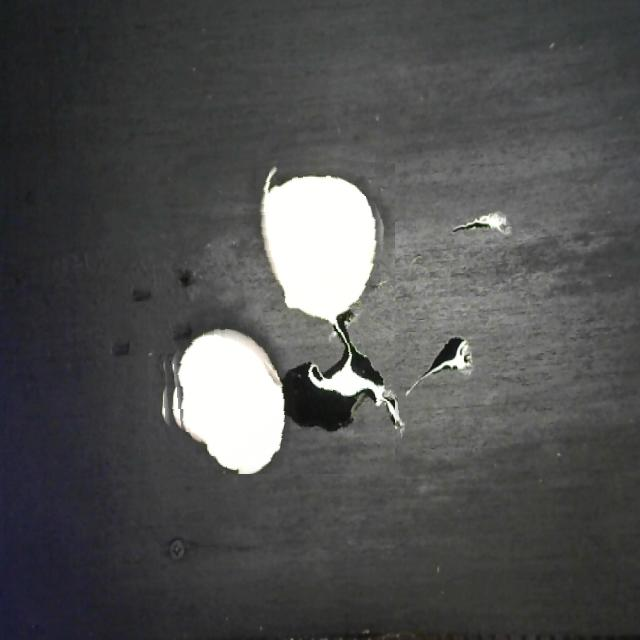biodegradable: (154, 149, 396, 474)
